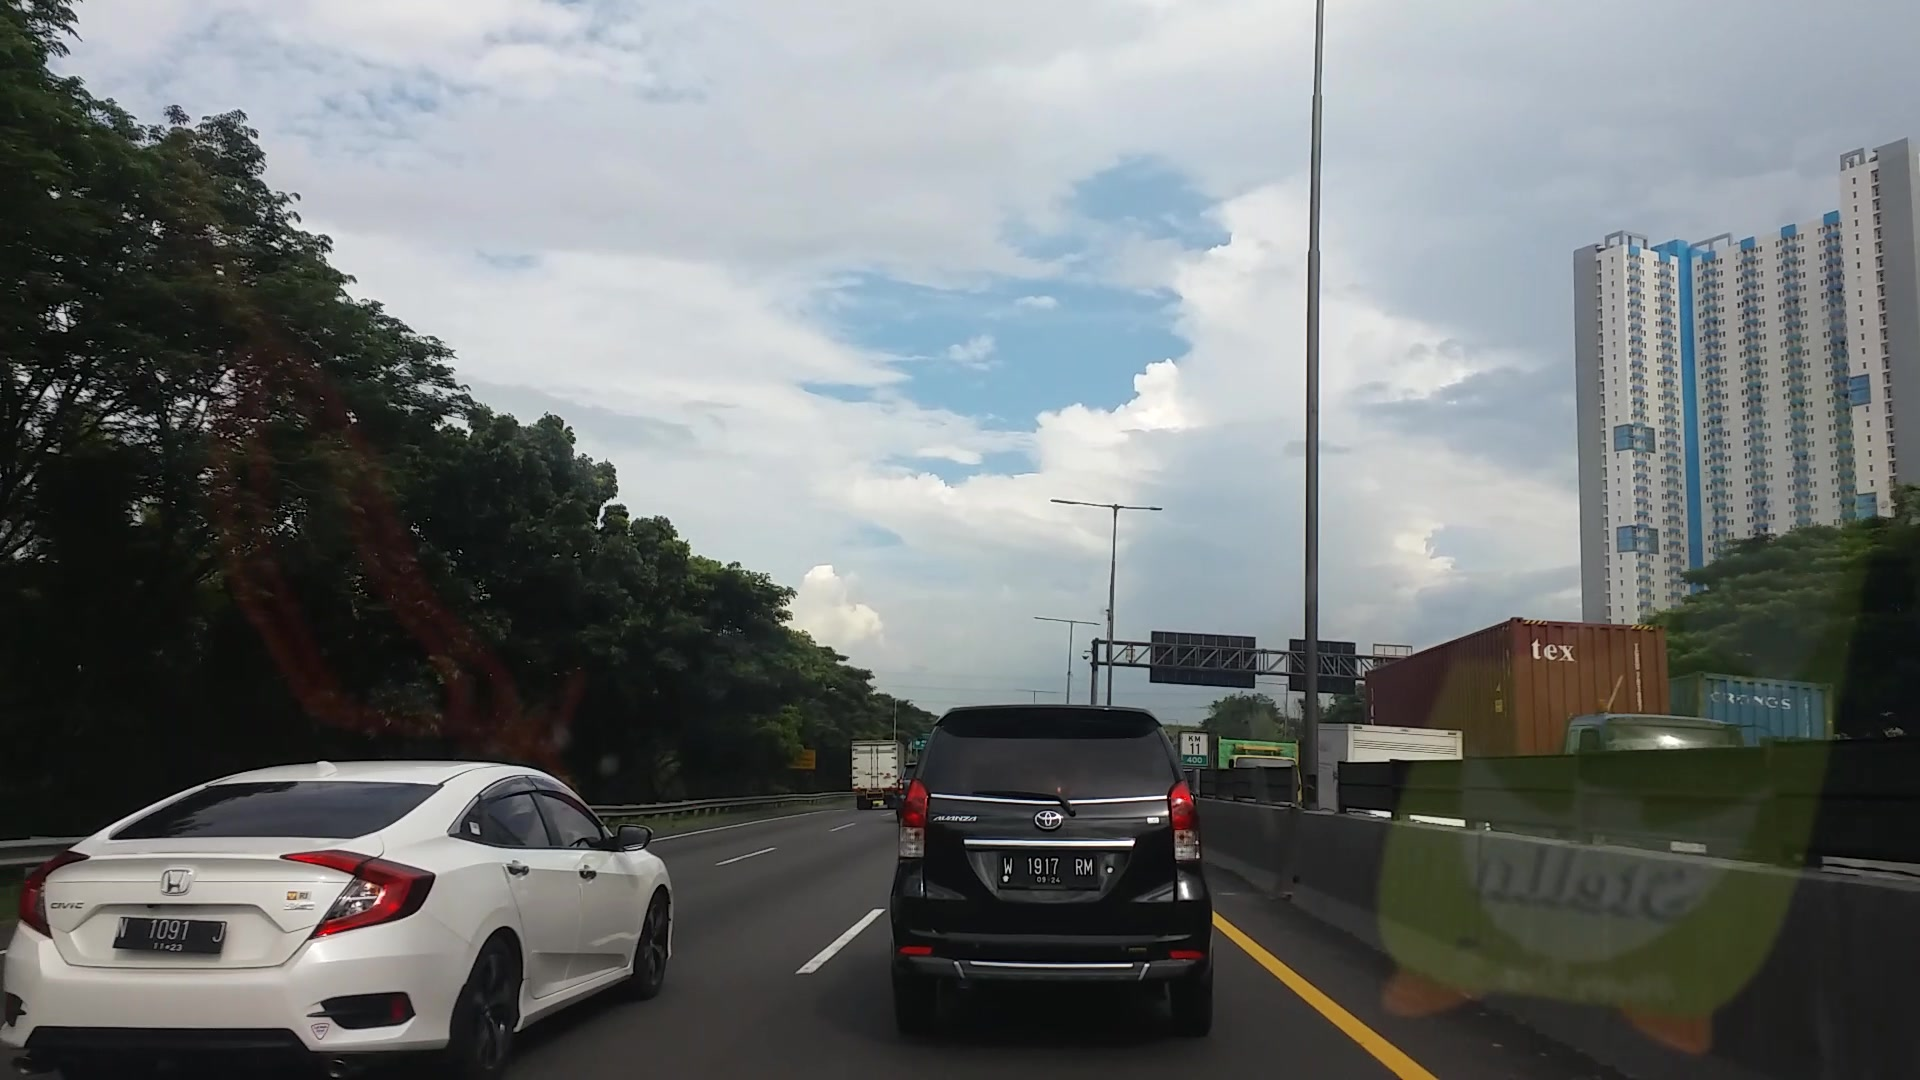plate_positive: (1000, 852, 1096, 887)
